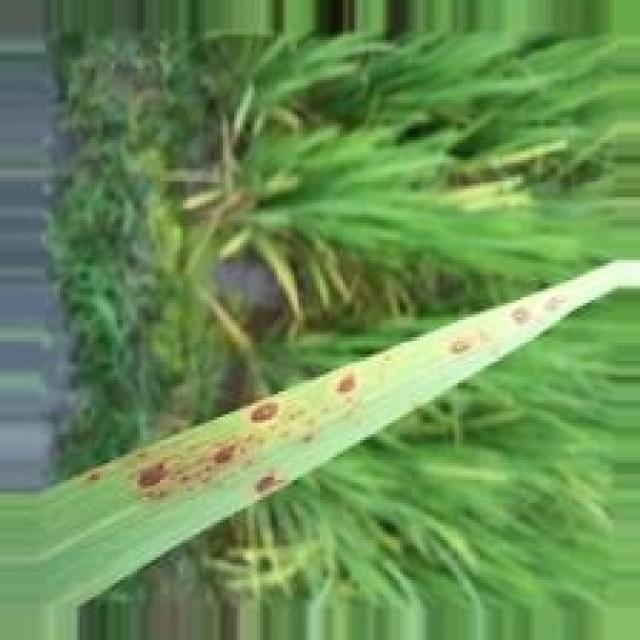Brown_Spot: (133, 454, 173, 495), (252, 468, 284, 504), (247, 398, 281, 430), (329, 366, 361, 400), (210, 436, 241, 471), (444, 332, 479, 360), (508, 302, 533, 325), (79, 467, 102, 488)
